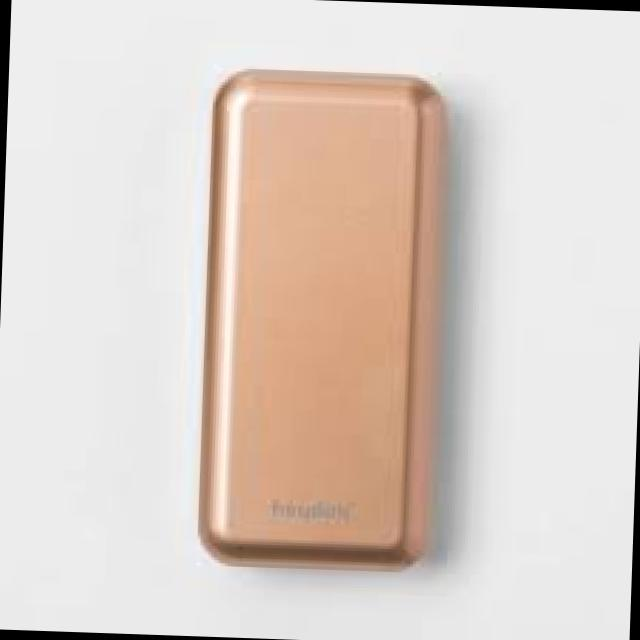portable-charger: (195, 62, 444, 570)
